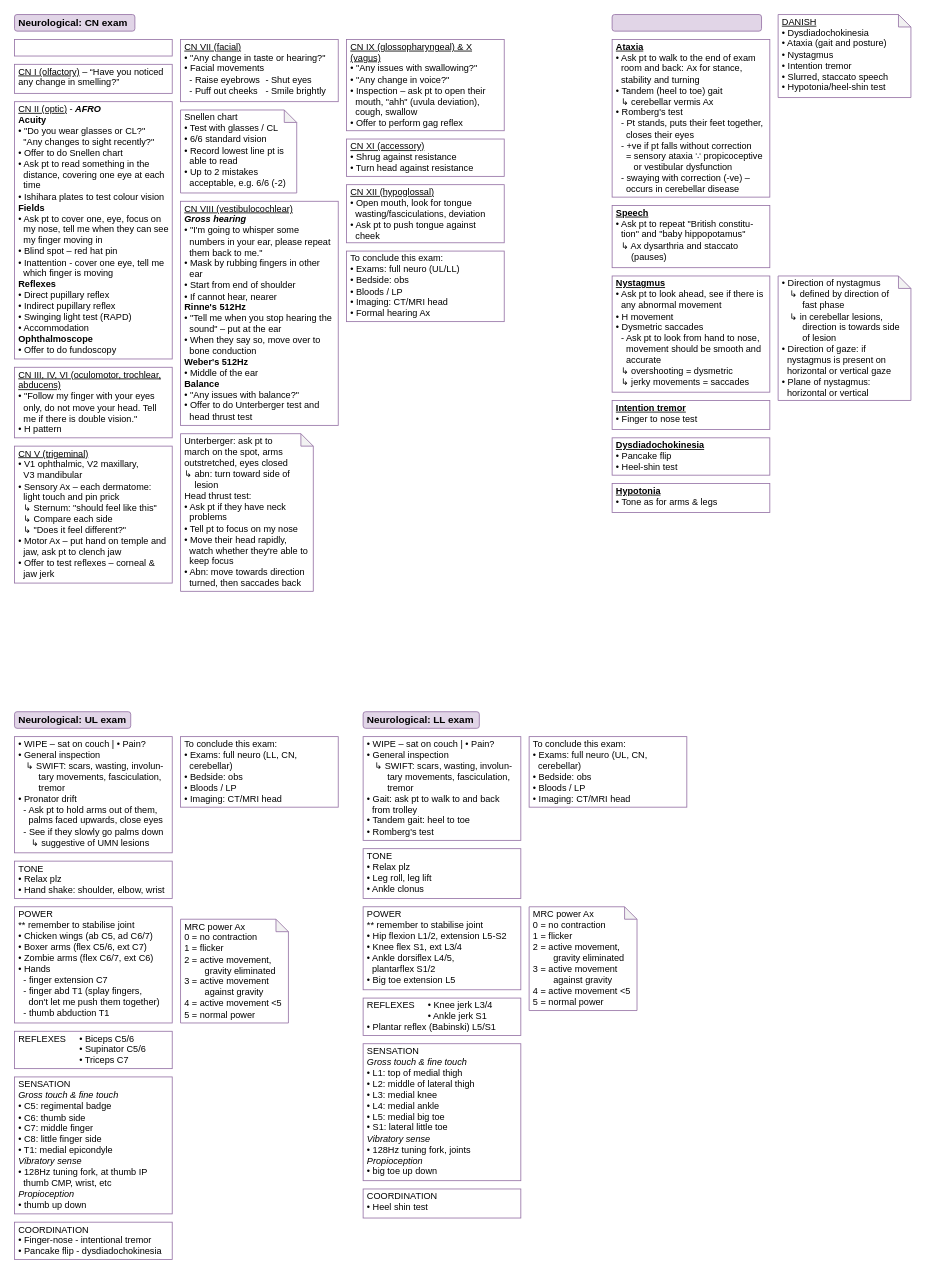
Some shapes in this 925 by 1274 pixel diagram are drawn without their labels. Each missing label, with the centre of its shape:
"Neurological: cerebellar exam" goes at (686,22).
"• WIPE – sat facing me | • Pain?" goes at (93,47).
